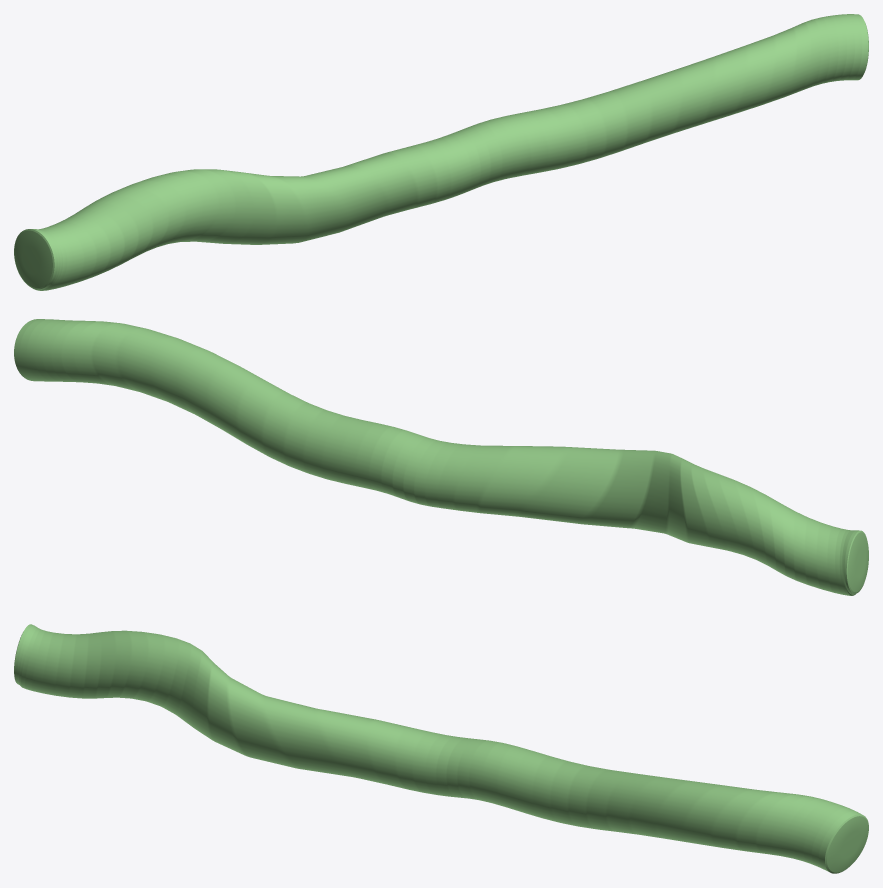
3 views of the same model, one above another, from view 1: azimuth 30°, elevation 25°; view 2: azimuth 150°, elevation 25°; view 3: azimuth 330°, elevation 25° (orthographic).
Visible parts, largest first — view 1: pCylinder1; view 2: pCylinder1; view 3: pCylinder1.
Part boxes in pixels (box(x1,y1,x2,y2)): pCylinder1: box(14, 14, 868, 290); pCylinder1: box(14, 319, 868, 595); pCylinder1: box(14, 624, 868, 873).
Size of the model in its own units: 3.23 by 0.3344 by 0.3522.
